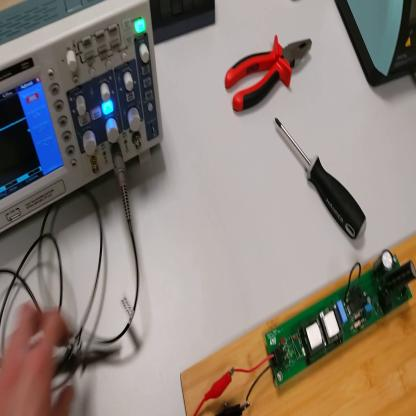hand: (2, 301, 75, 415)
high voltage board: (237, 247, 416, 407)
oscilloscope: (2, 2, 162, 241)
oscilloscope probe tip: (65, 338, 115, 372)
pliers: (226, 32, 314, 114)
screwdriver-: (277, 119, 369, 240)
welder station: (335, 2, 416, 88)
working area: (180, 229, 415, 416)
